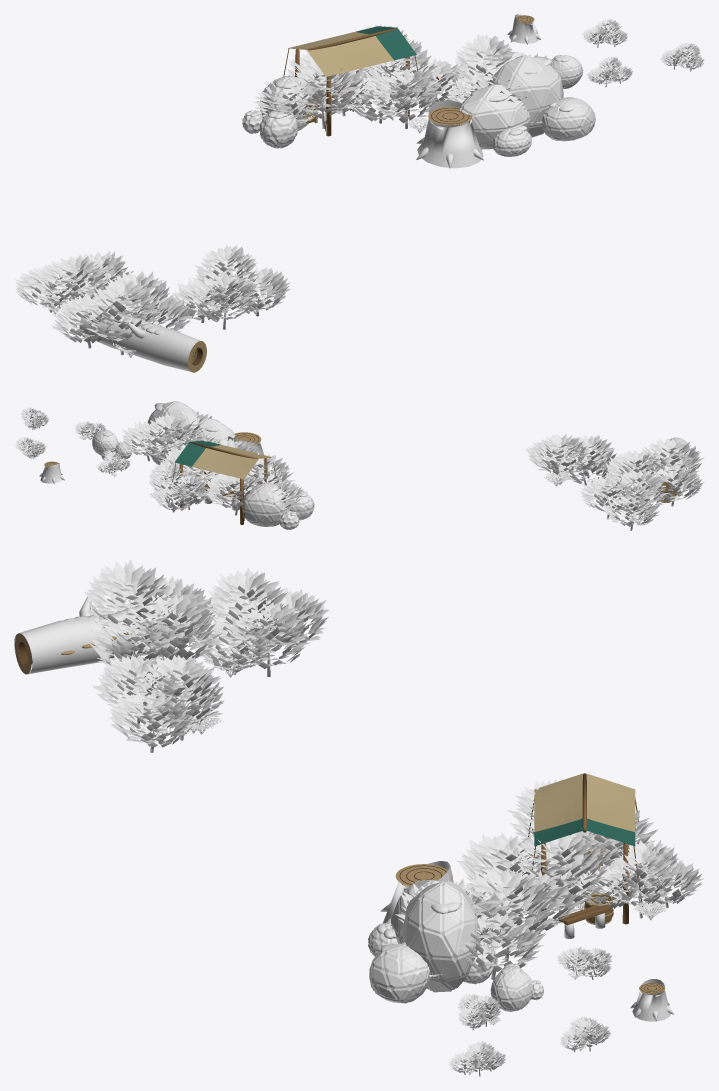
File: SM_DF_Explorer_1_2_Macro.fbx
3 renders of one model, top to bottom at view 1: azimuth 30°, elevation 25°; view 2: azimuth 150°, elevation 25°; view 3: azimuth 270°, elevation 25°, orthographic. The views are drawn at different scales.
Parts seen in each view (by area): view 1: SM_DF_Explorer_1_2_Macro; view 2: SM_DF_Explorer_1_2_Macro; view 3: SM_DF_Explorer_1_2_Macro.
Part boxes in pixels (bbox=[...]): SM_DF_Explorer_1_2_Macro: bbox=[14, 14, 704, 372]; SM_DF_Explorer_1_2_Macro: bbox=[14, 401, 704, 530]; SM_DF_Explorer_1_2_Macro: bbox=[14, 559, 703, 1076].
Bounding box in the file's own units: 2991 × 1807 × 335.
